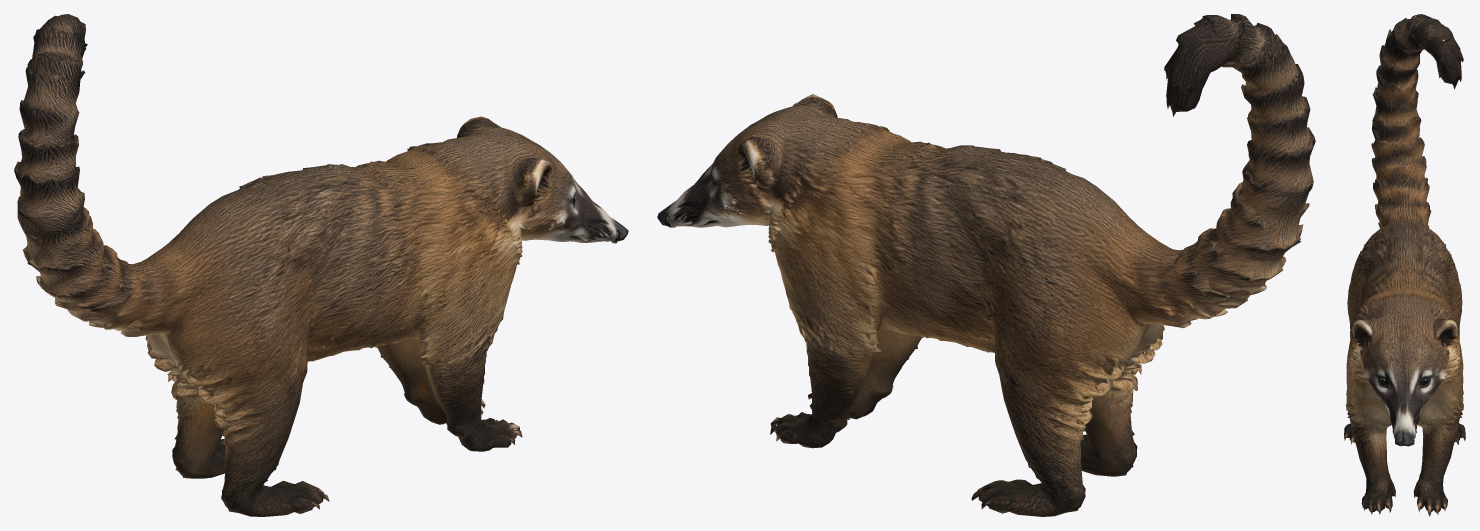
The model's file is coati-tripo-h31.glb.
3 renders of one model, left to right at view 1: azimuth 30°, elevation 25°; view 2: azimuth 150°, elevation 25°; view 3: azimuth 270°, elevation 25°, orthographic. The views are drawn at different scales.
Parts seen in each view (by area): view 1: tripo_node_09d4c4c5-92ec-46de-937e-43c8922d028b; view 2: tripo_node_09d4c4c5-92ec-46de-937e-43c8922d028b; view 3: tripo_node_09d4c4c5-92ec-46de-937e-43c8922d028b.
Boxes of the visible parts, x1,y1,x2,y2 form: tripo_node_09d4c4c5-92ec-46de-937e-43c8922d028b: (14,14,628,516); tripo_node_09d4c4c5-92ec-46de-937e-43c8922d028b: (657,14,1315,516); tripo_node_09d4c4c5-92ec-46de-937e-43c8922d028b: (1344,14,1465,516).
Bounding box in the file's own units: 0.9805 × 0.7641 × 0.2378.
1 material, 1 textured.
